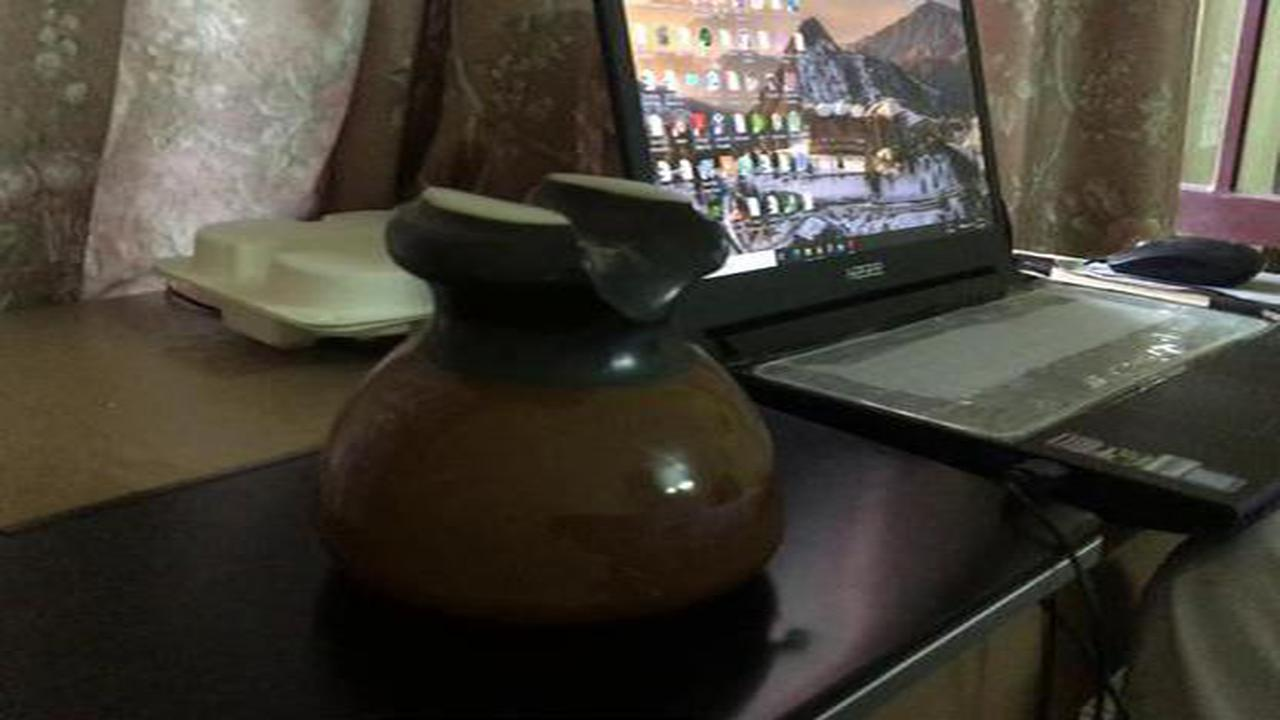insulator_pin: (302, 160, 804, 644)
